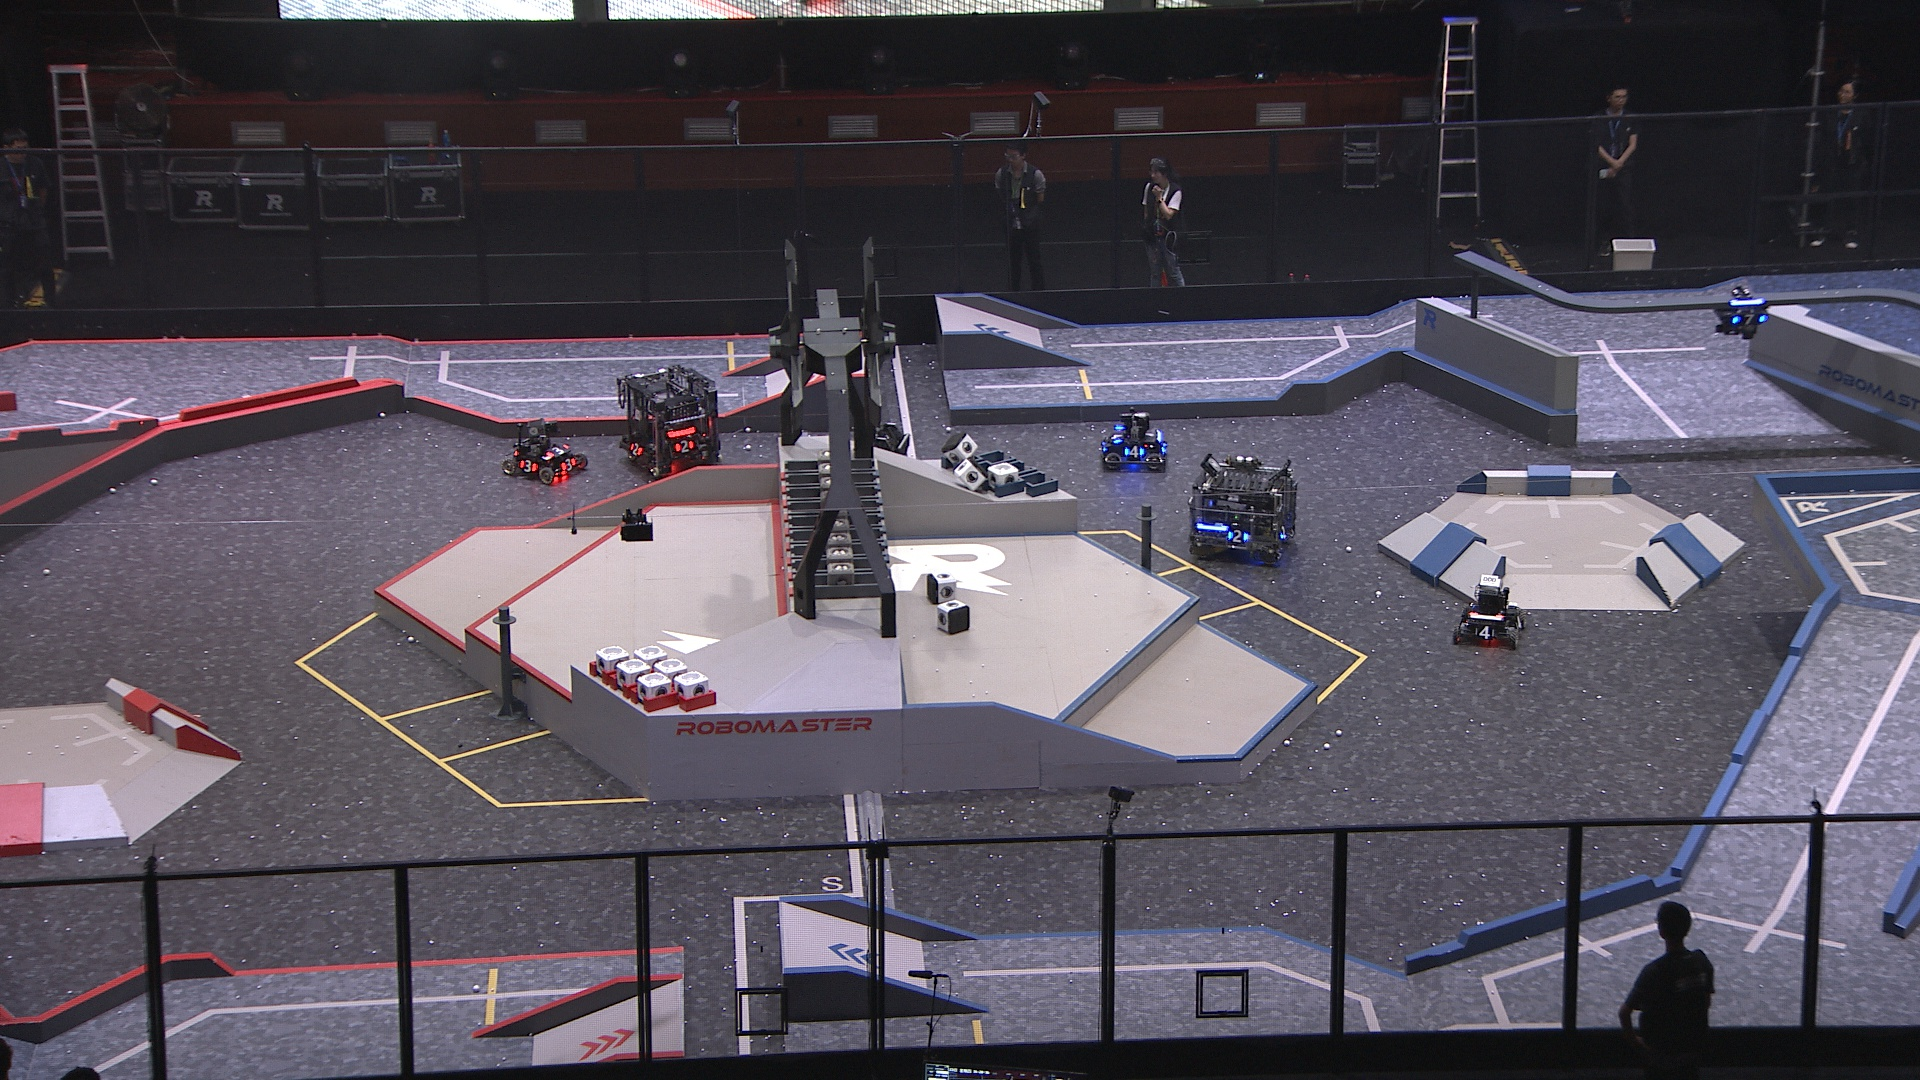armor: (1731, 310, 1766, 324), (1472, 622, 1495, 640), (1224, 527, 1247, 543), (546, 442, 566, 460), (626, 440, 645, 458), (518, 458, 538, 473), (1276, 524, 1294, 541), (675, 439, 695, 454), (1125, 444, 1145, 458), (558, 458, 578, 471), (1147, 429, 1160, 444), (1112, 429, 1124, 446), (1514, 613, 1524, 632)
car: (1185, 454, 1300, 570), (617, 363, 723, 477), (500, 417, 588, 485), (1452, 575, 1527, 647), (1097, 405, 1171, 475), (844, 415, 906, 485)
watcher: (1714, 284, 1774, 342)
